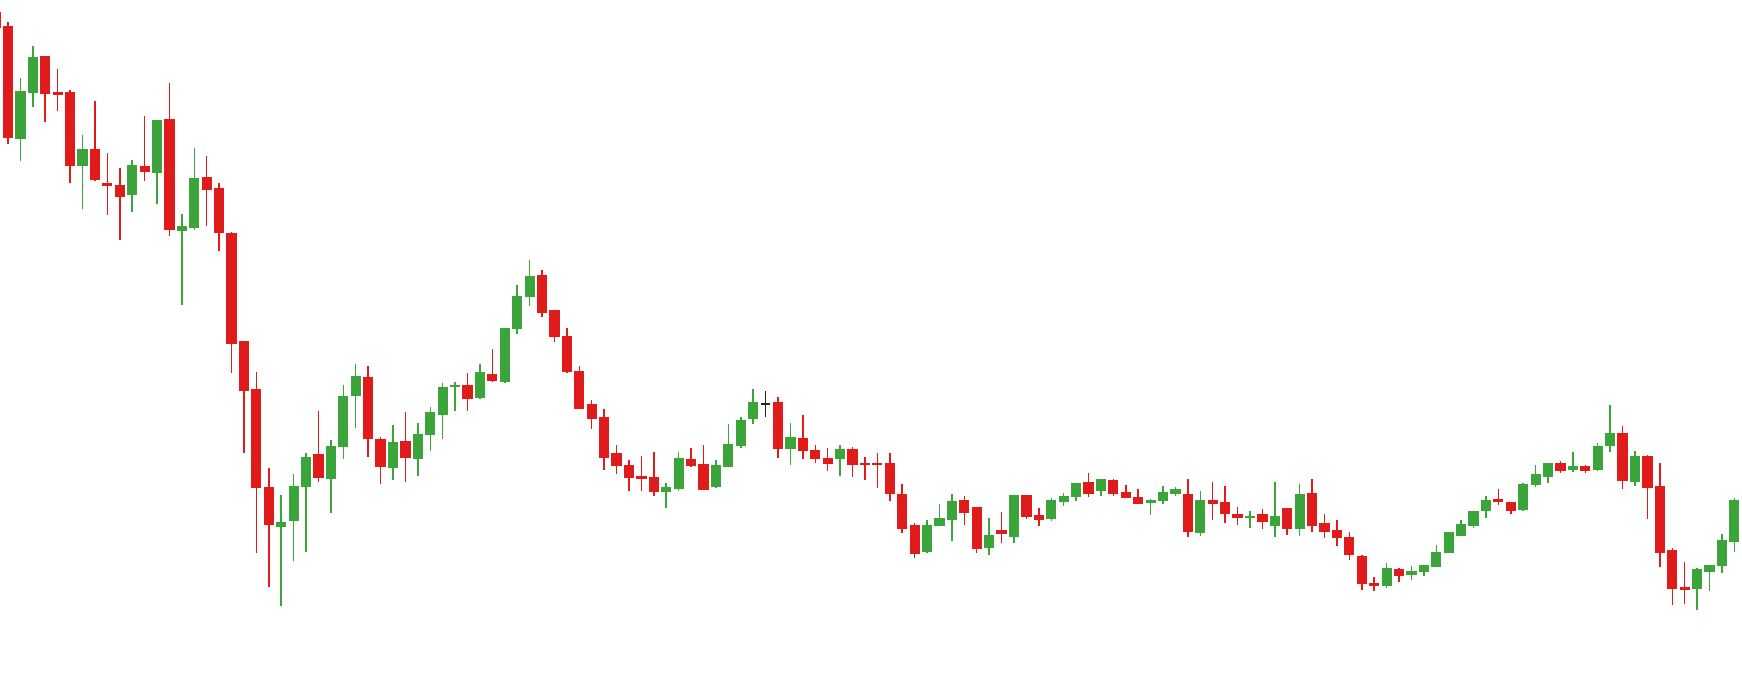sell: (86, 80, 176, 208)
